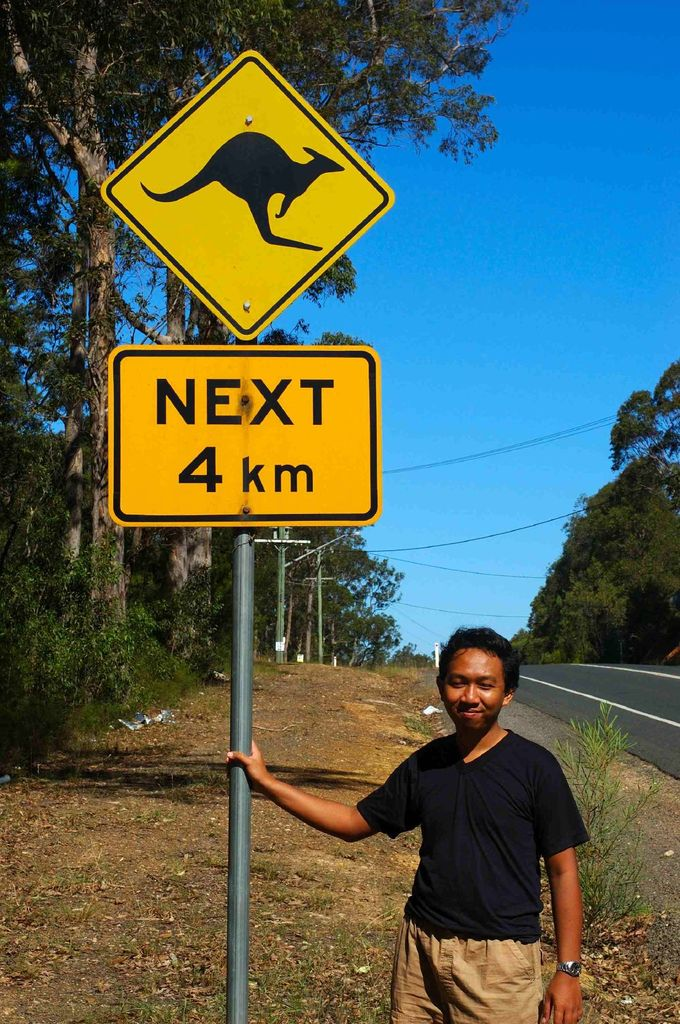animals_ahead: (104, 48, 400, 339)
